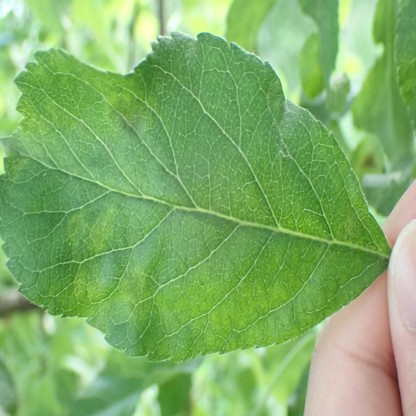scab: (110, 96, 141, 133), (68, 216, 83, 243)
